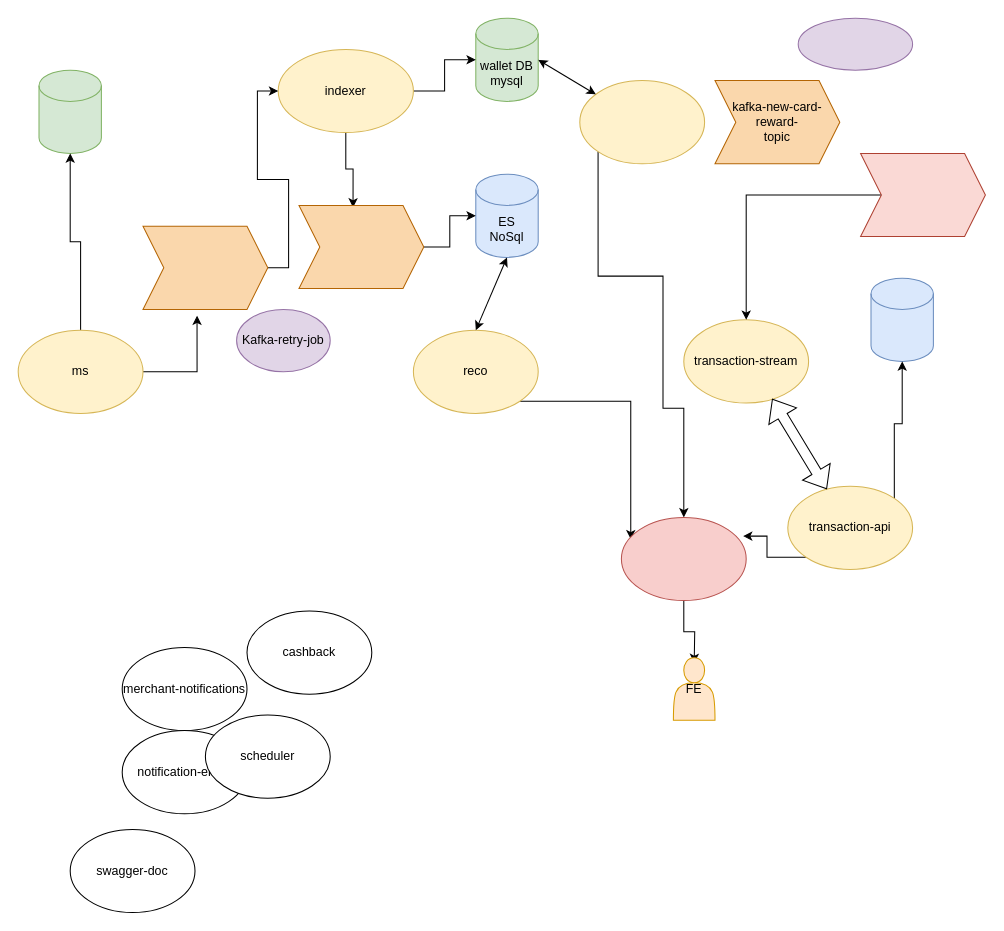
This 1004x931 diagram has some shape labels left out. The box of each missing label's shape, as (x1, y1, x2, y2) in pixels:
bff: (620, 516, 746, 601)
DynamoDB NoSql: (870, 277, 933, 361)
kafka-payment- topic: (860, 152, 985, 237)
kafka-sync- topic: (298, 204, 424, 289)
kafka-upsert- topic: (142, 225, 268, 309)
ms DB mysql: (38, 69, 101, 153)
user-notifications: (797, 17, 913, 70)
wallet: (579, 80, 705, 164)
